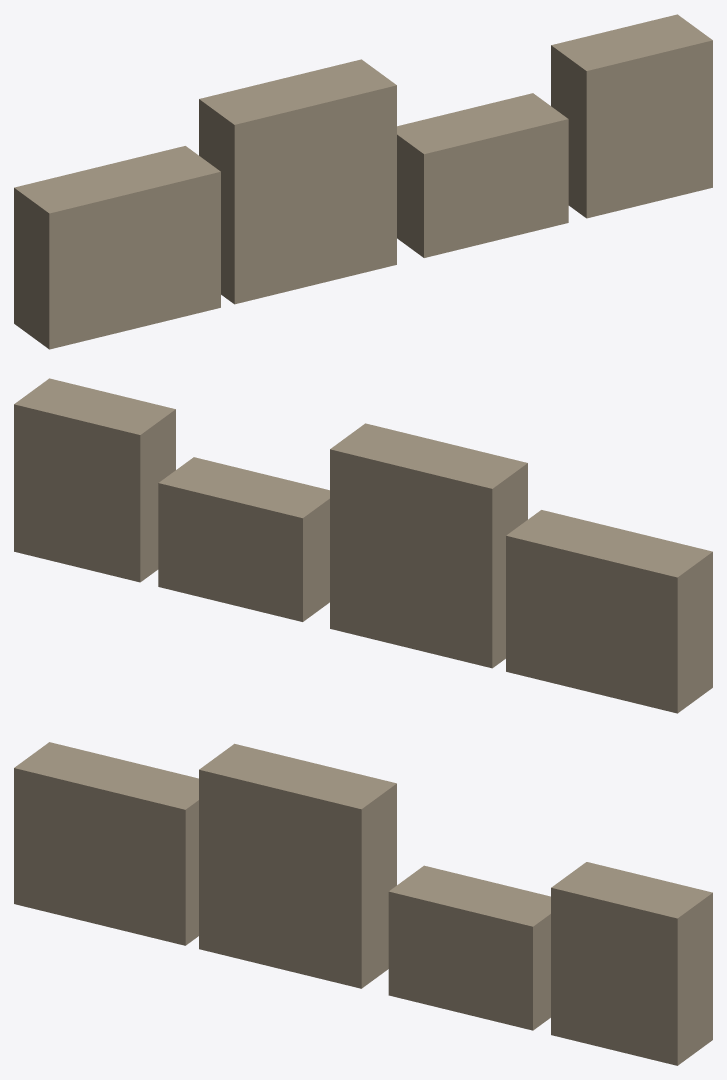
The model's file is wall.glb.
The picture shows the model from 3 angles, top to bottom: view 1: azimuth 30°, elevation 25°; view 2: azimuth 150°, elevation 25°; view 3: azimuth 330°, elevation 25°; orthographic projection.
Parts seen in each view (by area): view 1: Wall; view 2: Wall; view 3: Wall.
Part boxes in pixels (left/top/right/bottom): Wall: left=14, top=14, right=712, bottom=349; Wall: left=14, top=378, right=712, bottom=713; Wall: left=14, top=742, right=712, bottom=1065.
Size of the model in its own units: 3.67 by 0.95 by 0.34.
